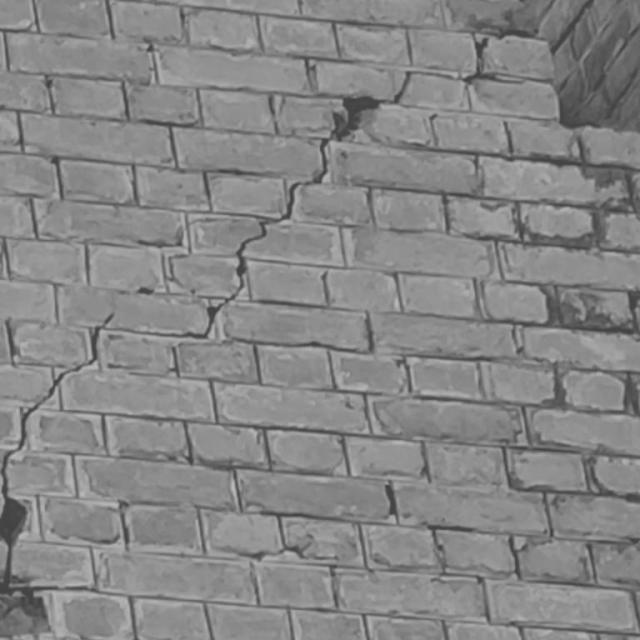crack: (1, 216, 217, 640), (186, 70, 413, 338)
